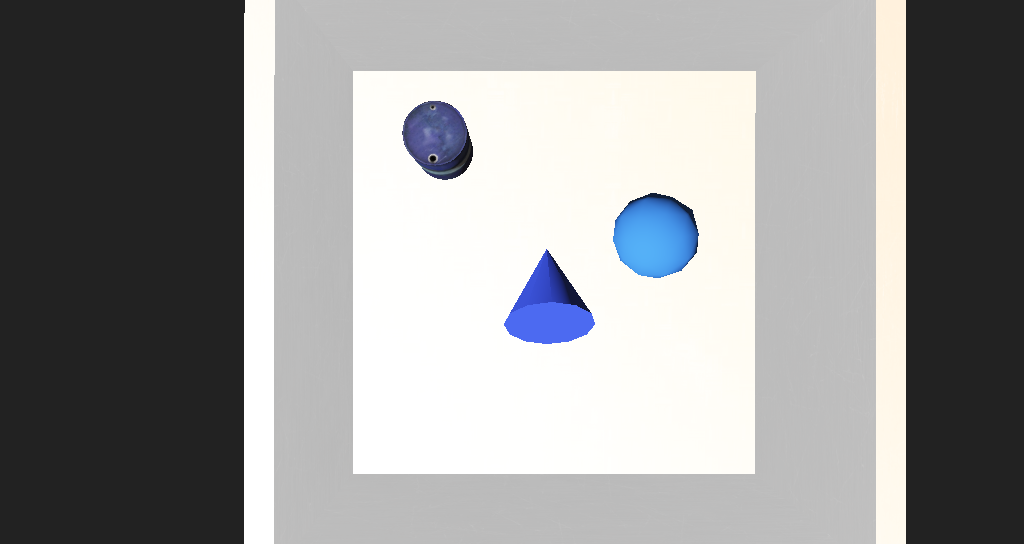cone: (391, 181, 445, 220)
cylinder: (468, 246, 529, 308)
sphere: (549, 224, 610, 272)
